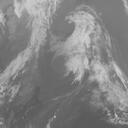cyclone: (58, 12, 112, 83)
